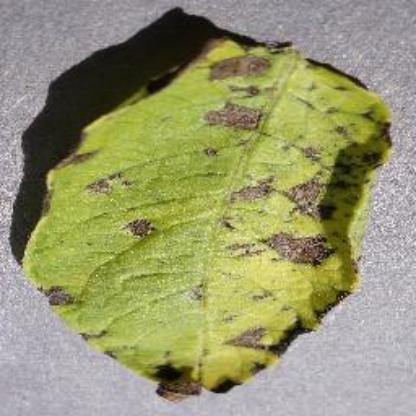Early-Blight: (19, 34, 394, 400)
